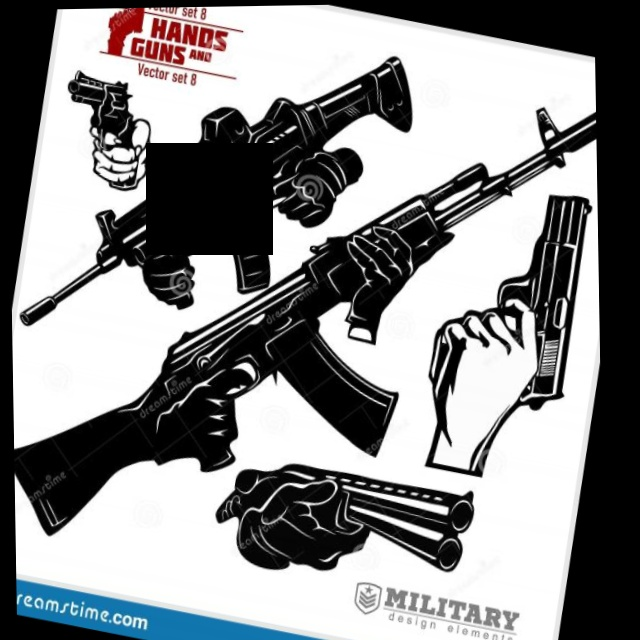gun: (420, 163, 601, 425), (53, 57, 153, 171)
